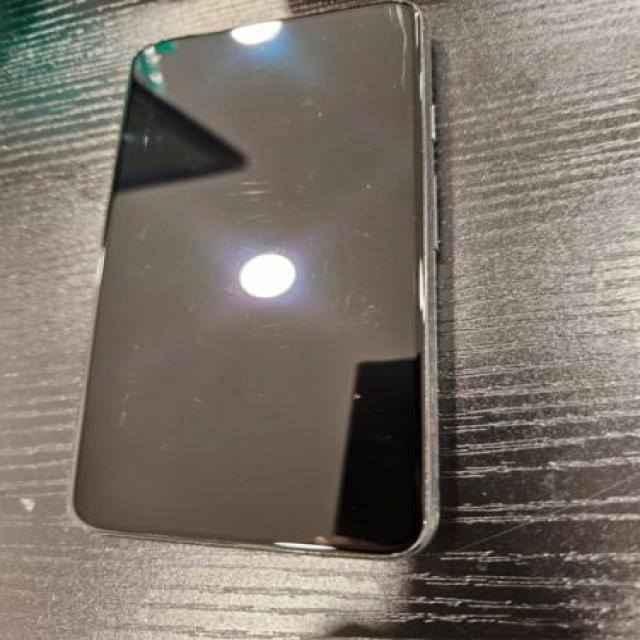Scratches: (114, 314, 160, 432), (226, 164, 280, 207)
